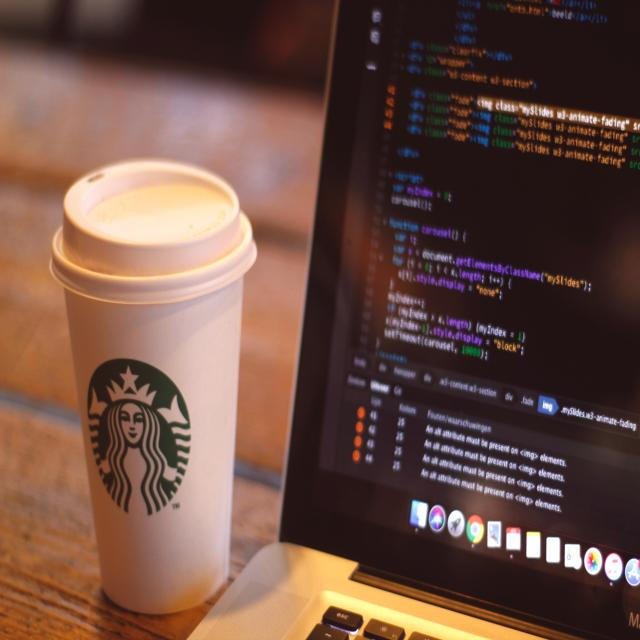cup: (50, 159, 256, 616)
